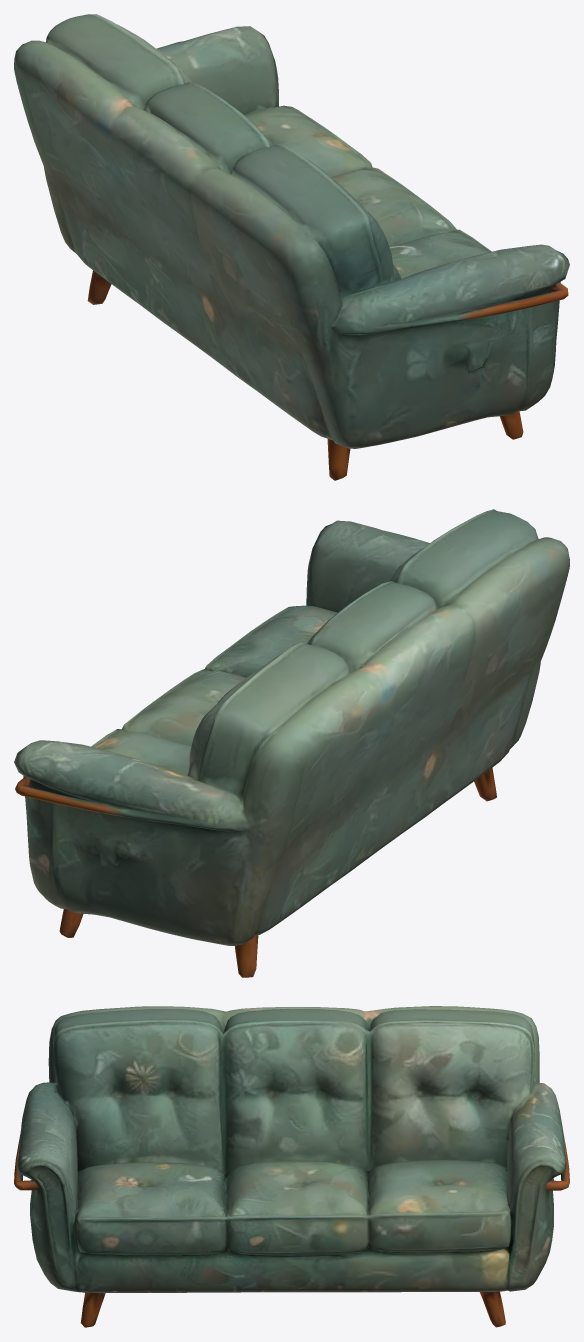
Rendered from sofa.glb.
3 views of the same model, one above another, from view 1: azimuth 30°, elevation 25°; view 2: azimuth 150°, elevation 25°; view 3: azimuth 270°, elevation 25° (orthographic). The views are drawn at different scales.
Parts seen in each view (by area): view 1: tripo_node_5afb09db-ae32-4a0f-a1fc-2b189899d035; view 2: tripo_node_5afb09db-ae32-4a0f-a1fc-2b189899d035; view 3: tripo_node_5afb09db-ae32-4a0f-a1fc-2b189899d035.
Boxes of the visible parts, <box> form: tripo_node_5afb09db-ae32-4a0f-a1fc-2b189899d035: <box>14,14,569,480</box>; tripo_node_5afb09db-ae32-4a0f-a1fc-2b189899d035: <box>14,509,569,977</box>; tripo_node_5afb09db-ae32-4a0f-a1fc-2b189899d035: <box>14,1006,569,1327</box>.
Size of the model in its own units: 0.4839 by 0.4751 by 1.
1 material, 1 textured.
